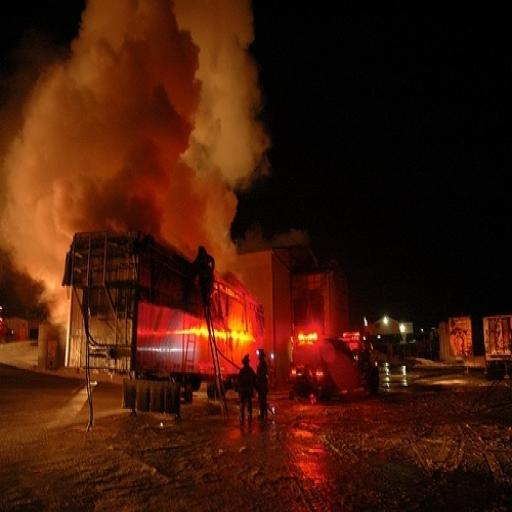fire: (66, 233, 265, 385), (165, 325, 209, 339), (343, 331, 361, 350), (229, 331, 255, 344), (0, 306, 7, 341), (297, 333, 318, 344)
smoke: (0, 0, 269, 296)
